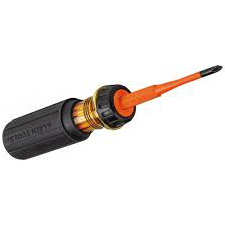Screwdriver: (2, 58, 225, 163)
